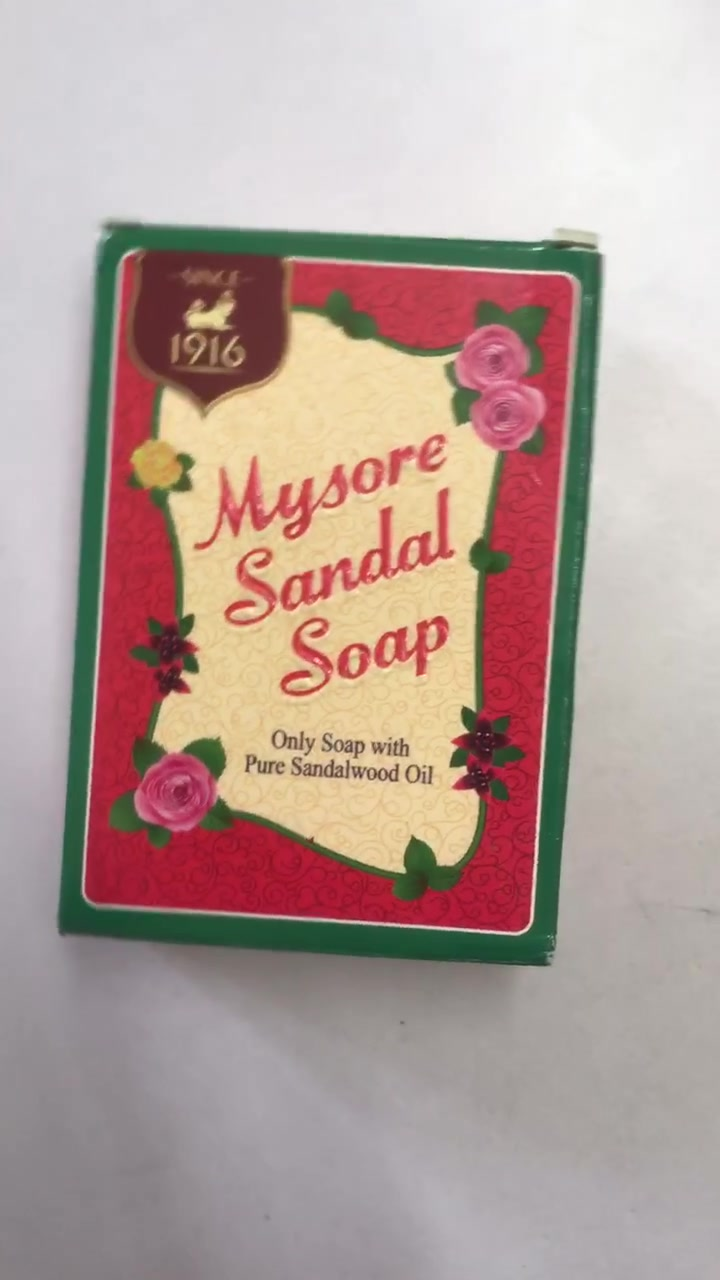mysore sandal soap: (58, 221, 594, 973)
